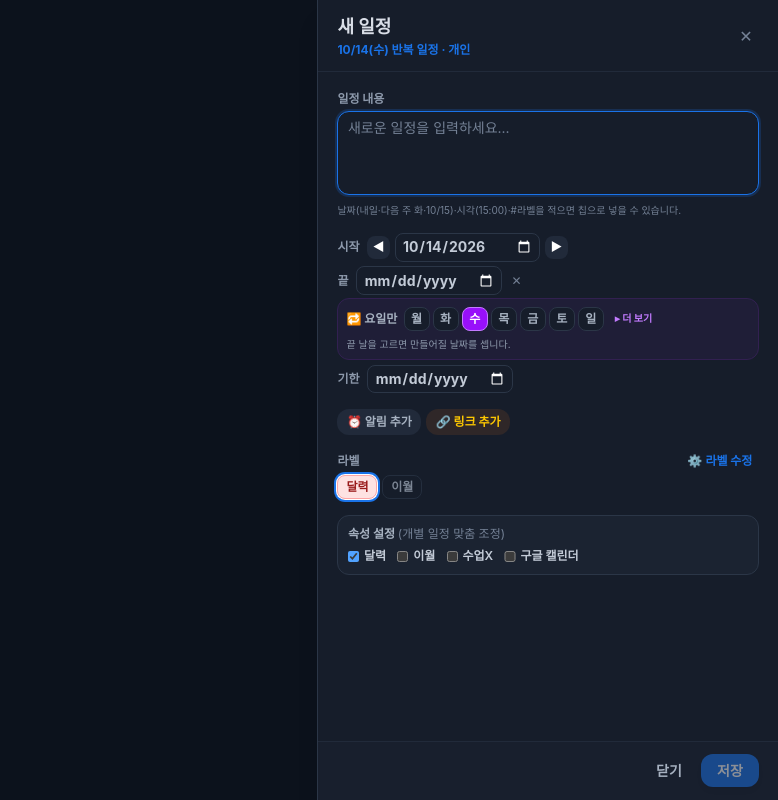
Test: 반복 (끝 날 줄의 요일 - P10-1) › 끝 날이 없으면 저장하지 않고 알린다
The width and height of the screenshot is (778, 800).
Type "협의회" into the text box with placeholder "새로운 일정을 입력하세요..." at (548, 153), box [337, 111, 759, 195]
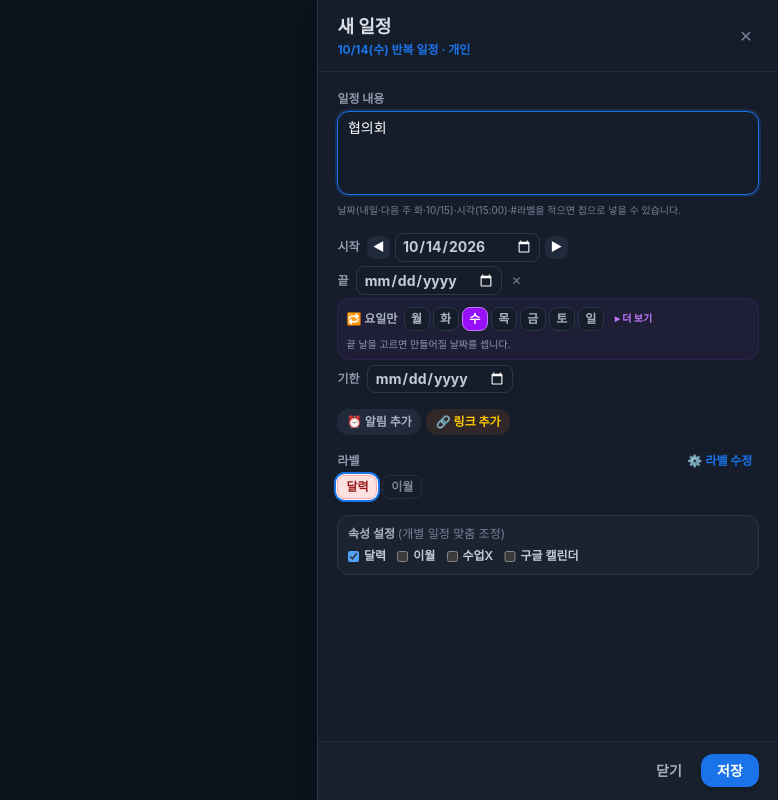
Click the button "저장" at (730, 771), box [701, 754, 759, 787]
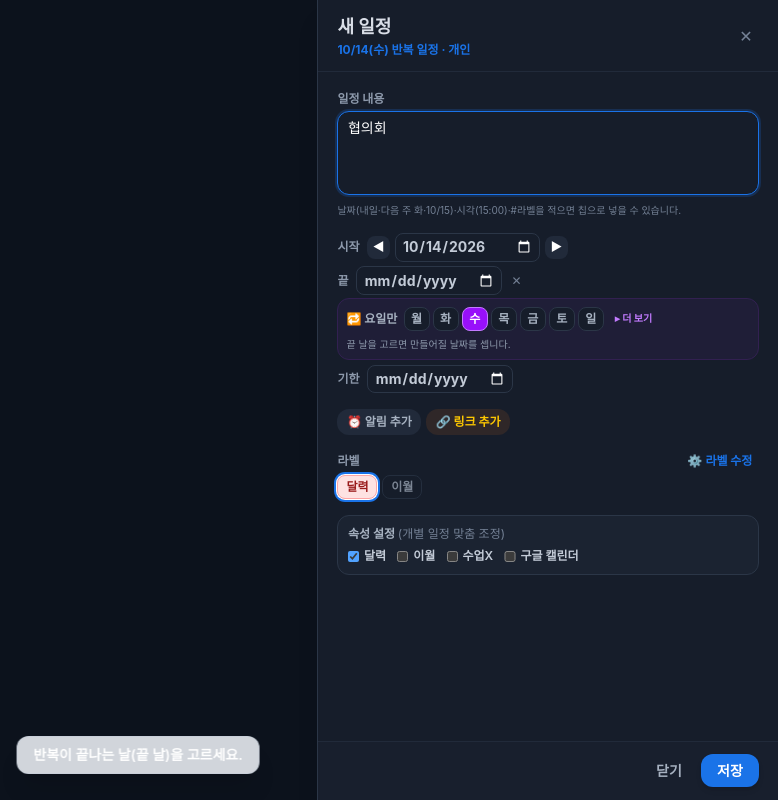
Expected: the message "반복이 끝나는 날(끝 날)을 고르세요." is shown, [16, 736, 260, 774]
